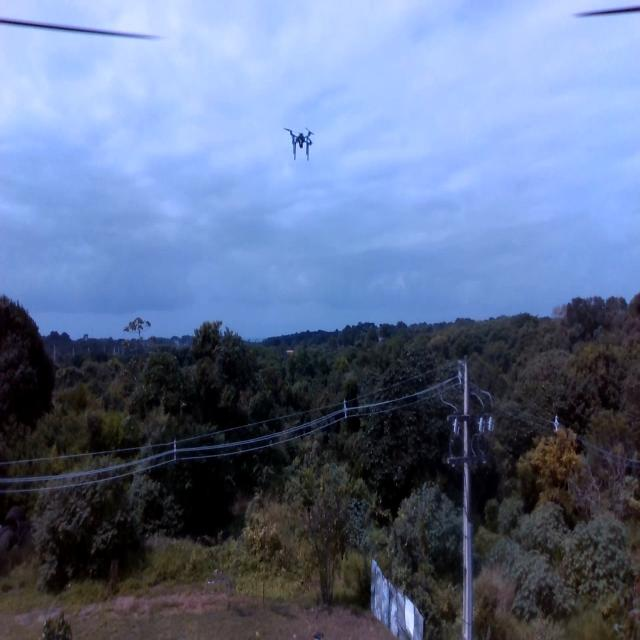-uav-: (279, 119, 319, 169)
